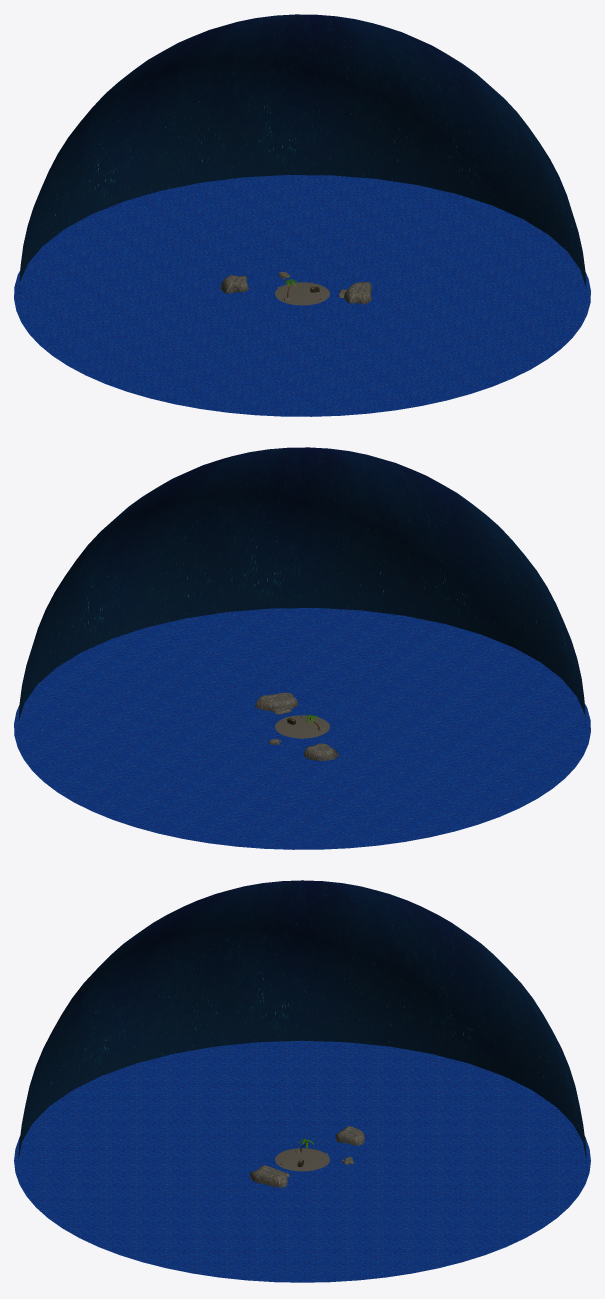
File: bottle_map2.glb
3 views of the same model, one above another, from view 1: azimuth 30°, elevation 25°; view 2: azimuth 150°, elevation 25°; view 3: azimuth 270°, elevation 25° (orthographic).
Visible parts, largest first — view 1: sea_geo, tenkyuu_geo, prop_geo, hamabe_geo; view 2: sea_geo, tenkyuu_geo, prop_geo, hamabe_geo; view 3: sea_geo, tenkyuu_geo, prop_geo, hamabe_geo.
Boxes of the visible parts, x1,y1,x2,y2 form: sea_geo: (14,175,590,416); tenkyuu_geo: (18,14,586,298); prop_geo: (220,271,371,304); hamabe_geo: (275,282,329,305); sea_geo: (14,608,590,849); tenkyuu_geo: (18,447,586,731); prop_geo: (255,692,339,760); hamabe_geo: (275,715,329,738); sea_geo: (14,1040,590,1282); tenkyuu_geo: (18,880,586,1158); prop_geo: (249,1126,364,1187); hamabe_geo: (275,1148,329,1171).
Size of the model in its own units: 5.01 by 2.48 by 5.01.
5 materials, 4 textured.
